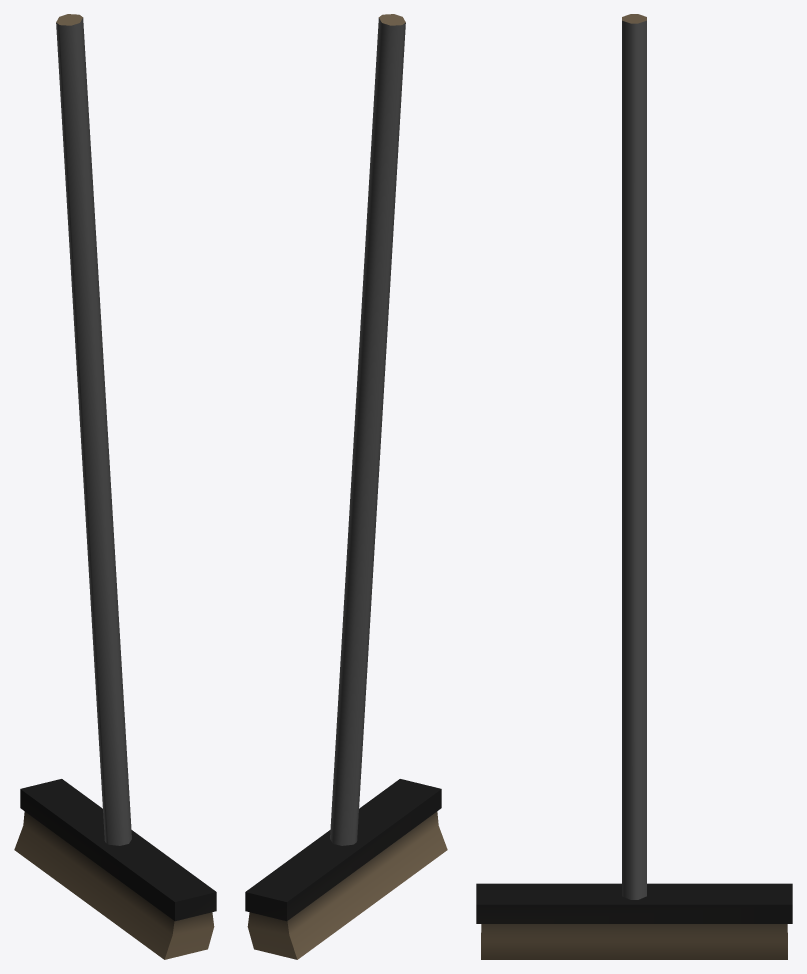
The model's file is Broom.fbx.
3 views of the same model, side by side, from view 1: azimuth 30°, elevation 25°; view 2: azimuth 150°, elevation 25°; view 3: azimuth 270°, elevation 25° (orthographic). The views are drawn at different scales.
Visible parts, largest first — view 1: pCube38; view 2: pCube38; view 3: pCube38.
Part boxes in pixels (x1,y1,x2,y2): pCube38: [14, 14, 216, 959]; pCube38: [245, 14, 447, 959]; pCube38: [476, 14, 792, 959].
Size of the model in its own units: 0.083 by 0.8649 by 0.2724.
